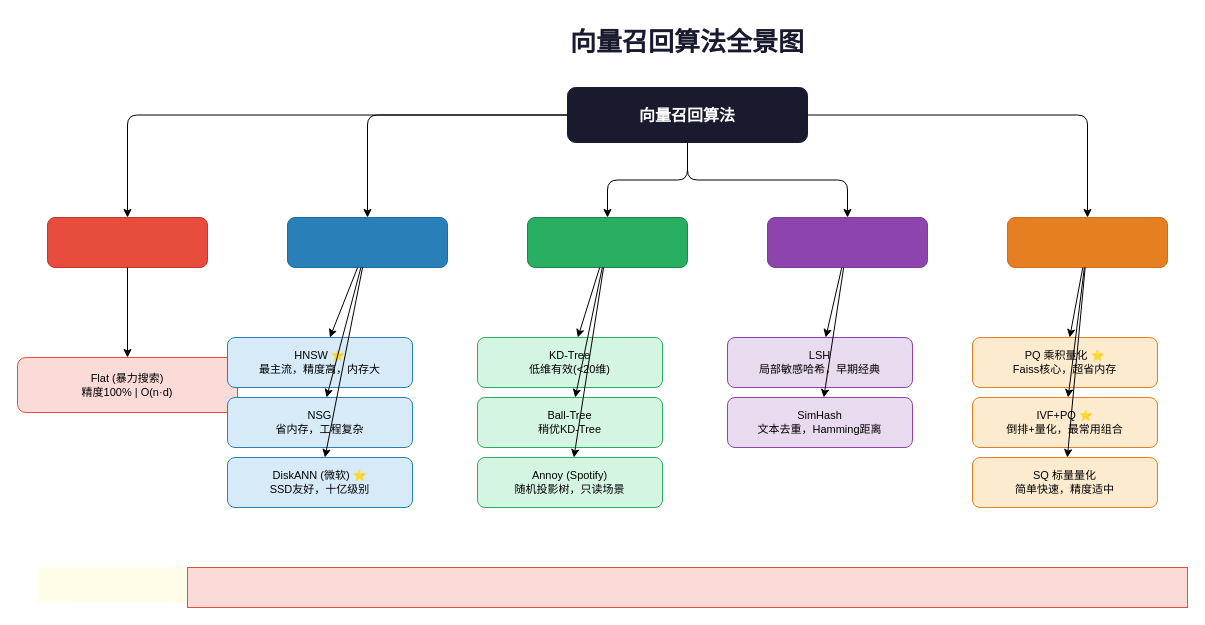
Some shapes in this 1205 by 625 pixel diagram are drawn without their labels. Here are the shapes that lost their labels. From the top down, the centre of each, then its label:
the point at 127,242: ① 精确搜索
the point at 367,242: ② 图索引
the point at 607,242: ③ 树索引
the point at 847,242: ④ 哈希索引
the point at 1087,242: ⑤ 向量量化
the point at 162,584: ⭐ = 工业界首选
the point at 687,587: ⚠️ 维度诅咒：树类算法在高维（>20维）空间退化严重，高维场景首选图索引或量化方案
